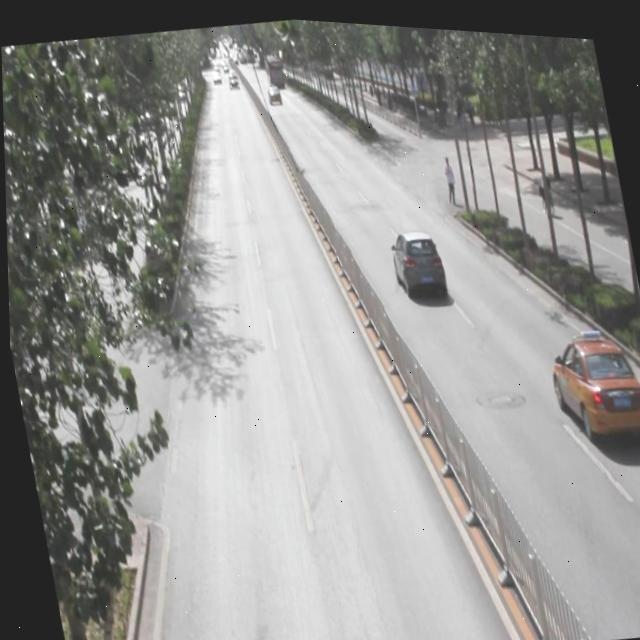car: (540, 312, 640, 444), (385, 220, 448, 299)
